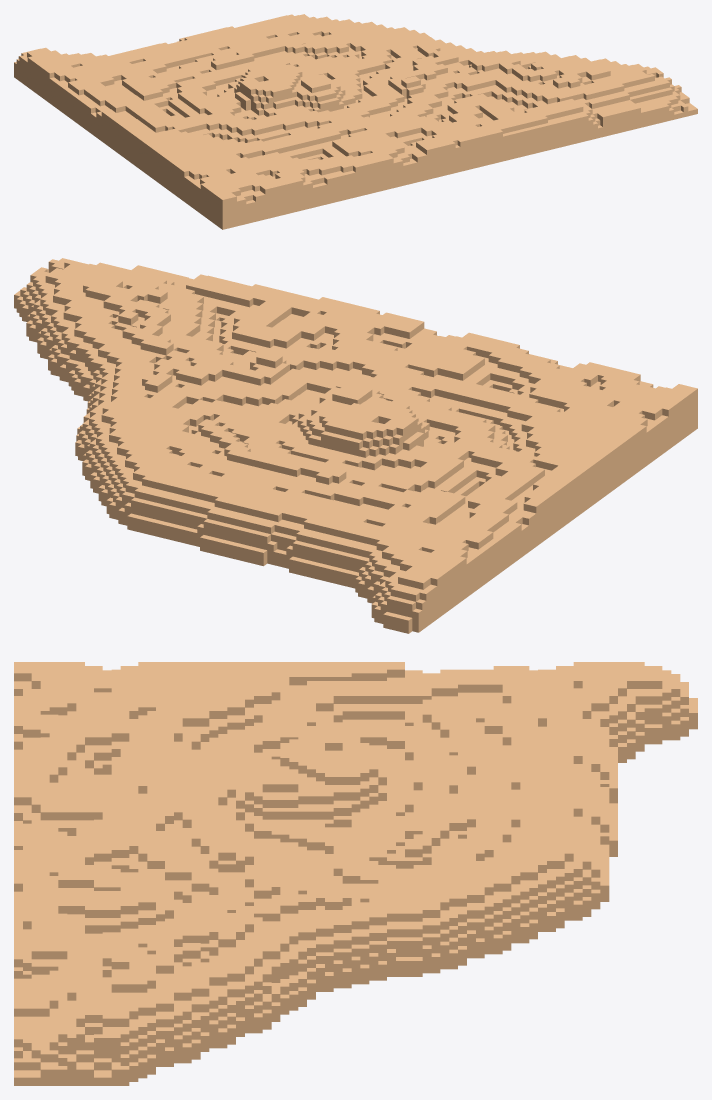
File: beach.obj
3 renders of one model, top to bottom at view 1: azimuth 30°, elevation 25°; view 2: azimuth 150°, elevation 25°; view 3: azimuth 270°, elevation 25°, orthographic. The views are drawn at different scales.
Bounding box in the file's own units: 10 × 0.9 × 7.7.
1 material, 1 textured.
